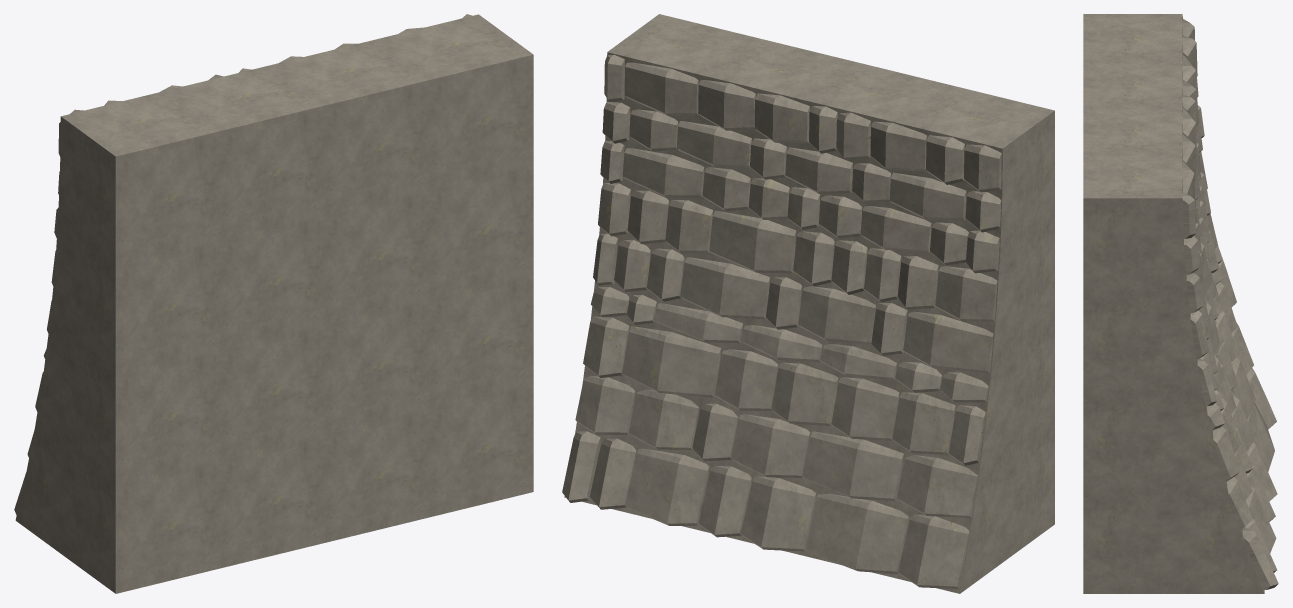
The model's file is HO_Wall_Ishigaki_Straight_16.fbx.
The picture shows the model from 3 angles, left to right: view 1: azimuth 30°, elevation 25°; view 2: azimuth 150°, elevation 25°; view 3: azimuth 270°, elevation 25°; orthographic projection. The views are drawn at different scales.
Parts seen in each view (by area): view 1: HO_Wall_Ishigaki_Straight_16; view 2: HO_Wall_Ishigaki_Straight_16; view 3: HO_Wall_Ishigaki_Straight_16.
Boxes of the visible parts, x1,y1,x2,y2 form: HO_Wall_Ishigaki_Straight_16: (14, 14, 533, 593); HO_Wall_Ishigaki_Straight_16: (562, 14, 1054, 593); HO_Wall_Ishigaki_Straight_16: (1083, 14, 1278, 593).
Size of the model in its own units: 16 by 16 by 7.17.
